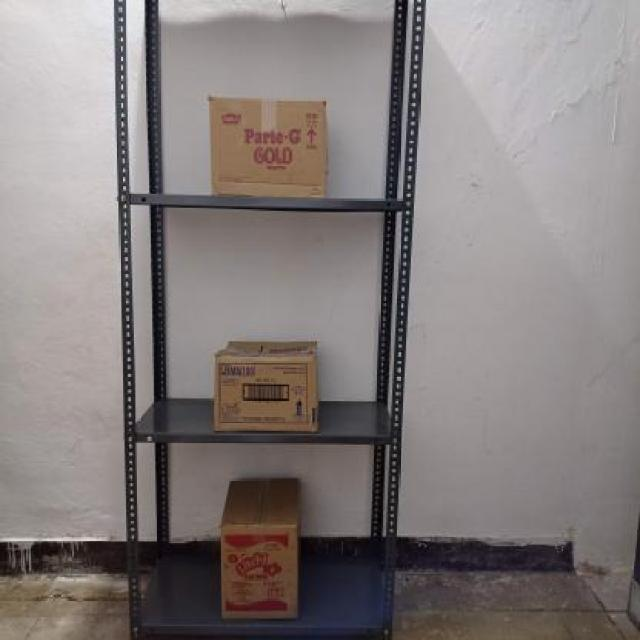box: (211, 98, 326, 194), (214, 353, 316, 432), (220, 522, 297, 620)
